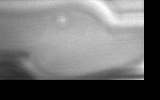cell: (51, 10, 71, 30)
